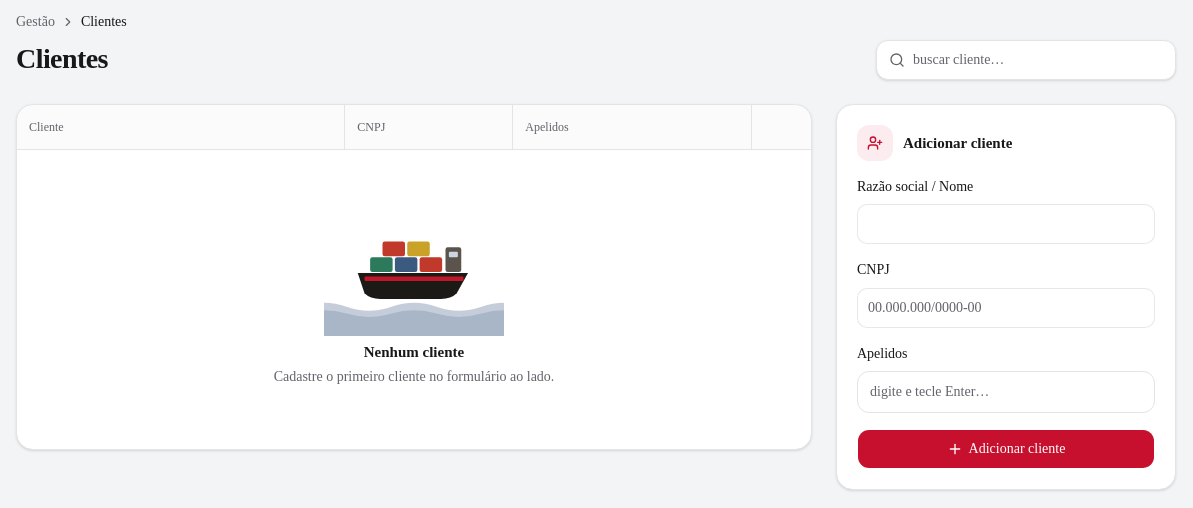
Scenario: ClientesPage › apelido vira chip ao teclar Enter e some ao clicar no ✕
Type "tecno" into the field with placeholder "digite e tecle Enter…" at (1006, 392), box x1=866 y1=378 x2=1146 y2=406
Then press Enter
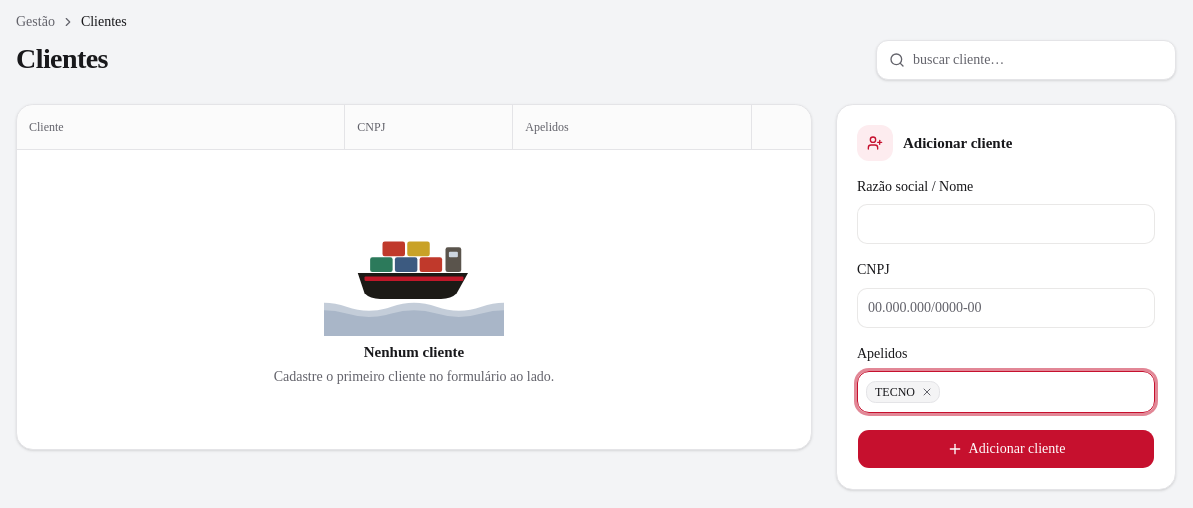
Expected: the text "TECNO" is shown, x1=866 y1=381 x2=940 y2=403
Click the button named "Remover TECNO" at (927, 392), box x1=919 y1=384 x2=935 y2=400
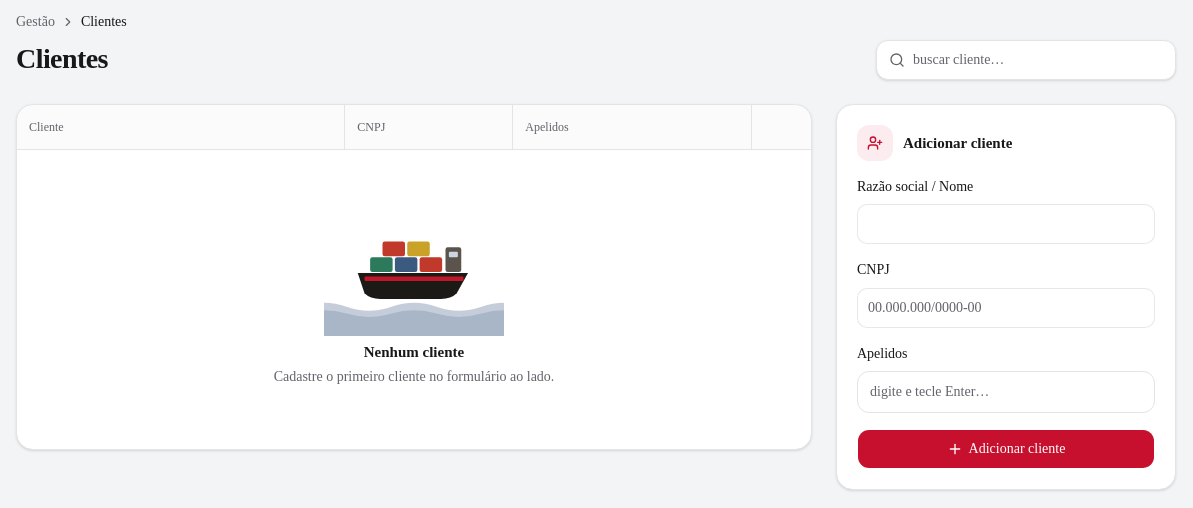
Expected: the text "TECNO" is gone
